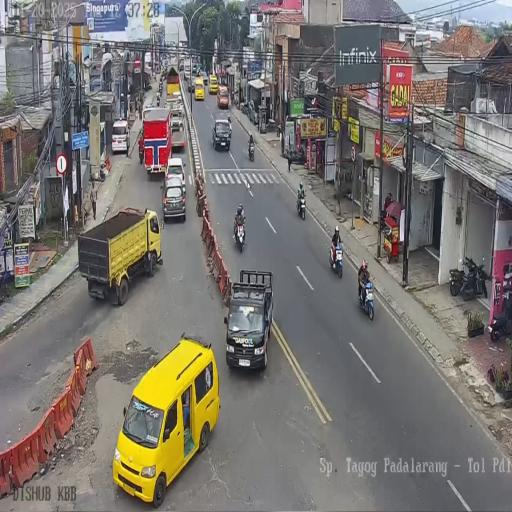car: (112, 336, 219, 504), (225, 270, 274, 370), (162, 172, 186, 223), (211, 117, 232, 151), (112, 119, 130, 155), (217, 85, 229, 108), (194, 77, 205, 100), (208, 74, 218, 94), (188, 79, 194, 93), (192, 63, 198, 75), (203, 72, 208, 84)
motorcycle: (489, 288, 512, 342), (448, 256, 469, 296), (470, 254, 489, 298), (358, 276, 375, 320), (233, 215, 246, 253), (330, 242, 343, 279), (296, 190, 306, 220), (240, 99, 248, 115), (276, 123, 282, 138), (159, 78, 163, 96), (230, 90, 234, 107)
truck: (77, 206, 162, 304), (139, 106, 172, 178), (169, 109, 186, 151), (144, 51, 156, 74), (168, 52, 178, 72), (183, 60, 192, 82), (161, 56, 168, 74), (178, 60, 184, 71)
